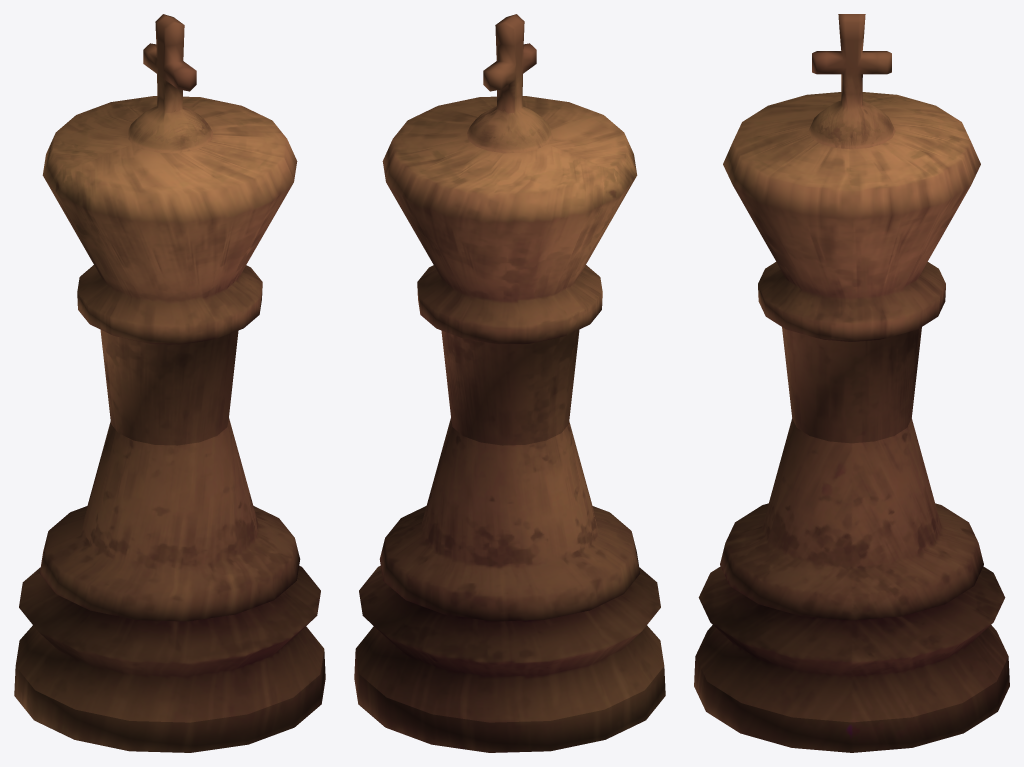
File: king.glb
The picture shows the model from 3 angles, left to right: view 1: azimuth 30°, elevation 25°; view 2: azimuth 150°, elevation 25°; view 3: azimuth 270°, elevation 25°; orthographic projection.
Parts seen in each view (by area): view 1: King_Light; view 2: King_Light; view 3: King_Light.
Boxes of the visible parts, <box> form: King_Light: <box>14,14,325,752</box>; King_Light: <box>354,14,665,752</box>; King_Light: <box>694,14,1009,752</box>.
Size of the model in its own units: 0.093 by 0.2182 by 0.093.
1 material, 1 textured.
